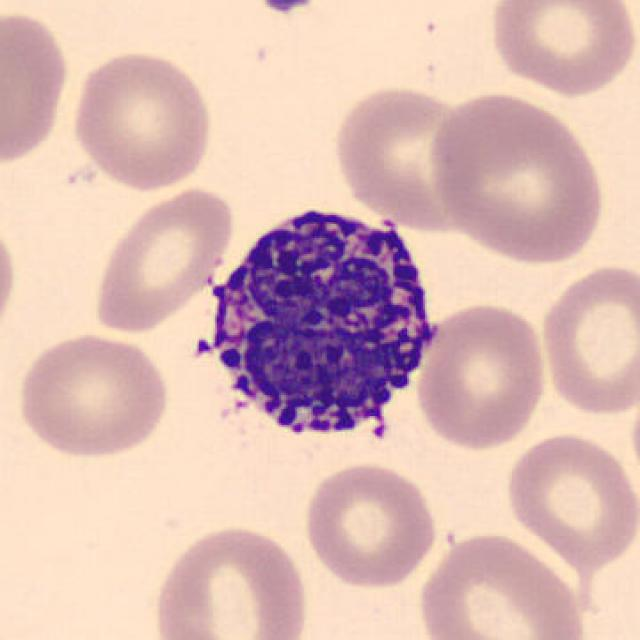Basophil: (182, 187, 452, 471)
Platelets: (251, 0, 320, 16)
RBC: (426, 88, 610, 268), (89, 182, 238, 335), (329, 81, 478, 231), (67, 46, 217, 194), (12, 328, 174, 462), (412, 298, 550, 453), (146, 520, 314, 640), (412, 527, 590, 640), (502, 428, 638, 572), (299, 458, 441, 590), (535, 258, 638, 420), (483, 0, 640, 98), (0, 5, 73, 171), (0, 208, 21, 349), (627, 373, 640, 504)
